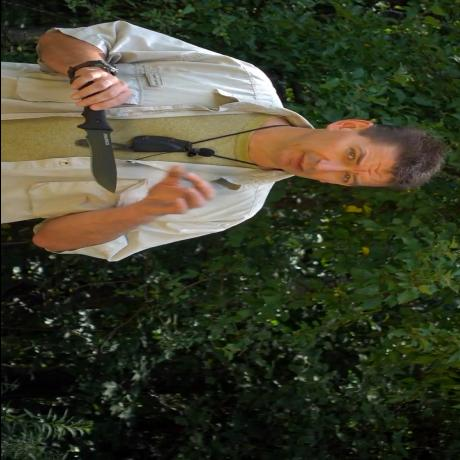1: (0, 25, 444, 259)
weapon: (72, 106, 120, 196)
